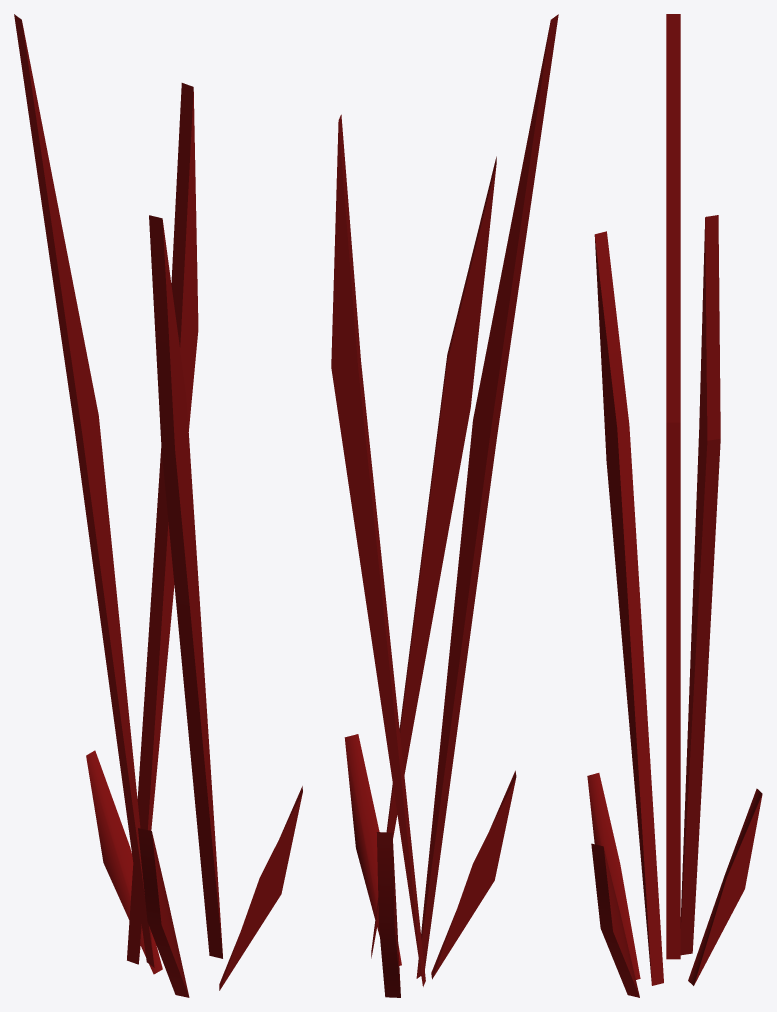
The model's file is Plant_Red.fbx.
3 views of the same model, side by side, from view 1: azimuth 30°, elevation 25°; view 2: azimuth 150°, elevation 25°; view 3: azimuth 270°, elevation 25° (orthographic). The views are drawn at different scales.
Visible parts, largest first — view 1: Cube_1, Cube_2, Cube, Cube_4, Cube_3, Cube_5; view 2: Cube_2, Cube, Cube_1, Cube_5, Cube_3, Cube_4; view 3: Cube_1, Cube_2, Cube, Cube_4, Cube_5, Cube_3.
Boxes of the visible parts, x1,y1,x2,y2 form: Cube_1: (149, 215, 222, 958); Cube_2: (14, 14, 154, 967); Cube: (127, 83, 198, 964); Cube_4: (86, 750, 162, 974); Cube_3: (138, 828, 189, 997); Cube_5: (219, 786, 302, 990); Cube_2: (416, 14, 558, 978); Cube: (331, 114, 425, 986); Cube_1: (371, 156, 496, 958); Cube_5: (344, 734, 401, 965); Cube_3: (431, 770, 516, 979); Cube_4: (376, 832, 400, 997); Cube_1: (594, 231, 663, 985); Cube_2: (666, 14, 680, 959); Cube: (680, 215, 720, 955); Cube_4: (688, 788, 762, 985); Cube_5: (591, 843, 639, 997); Cube_3: (587, 773, 640, 979).
Size of the model in its own units: 71.86 by 279 by 49.
